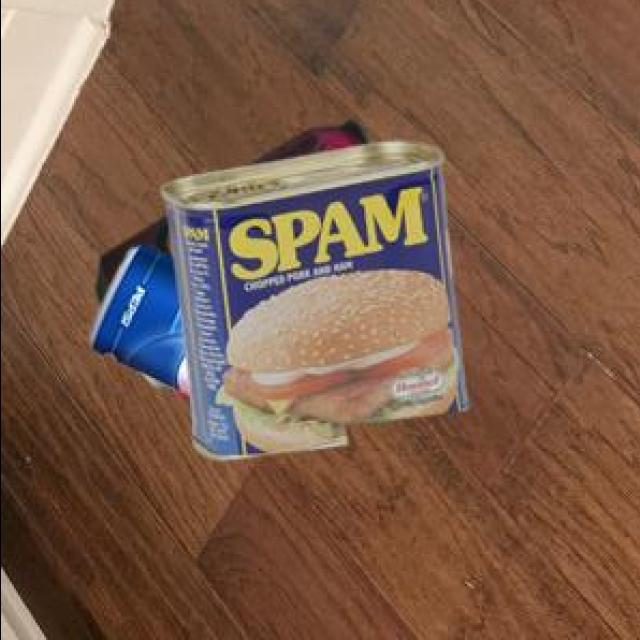logam: (158, 145, 465, 463), (91, 123, 368, 398), (87, 248, 186, 396)
